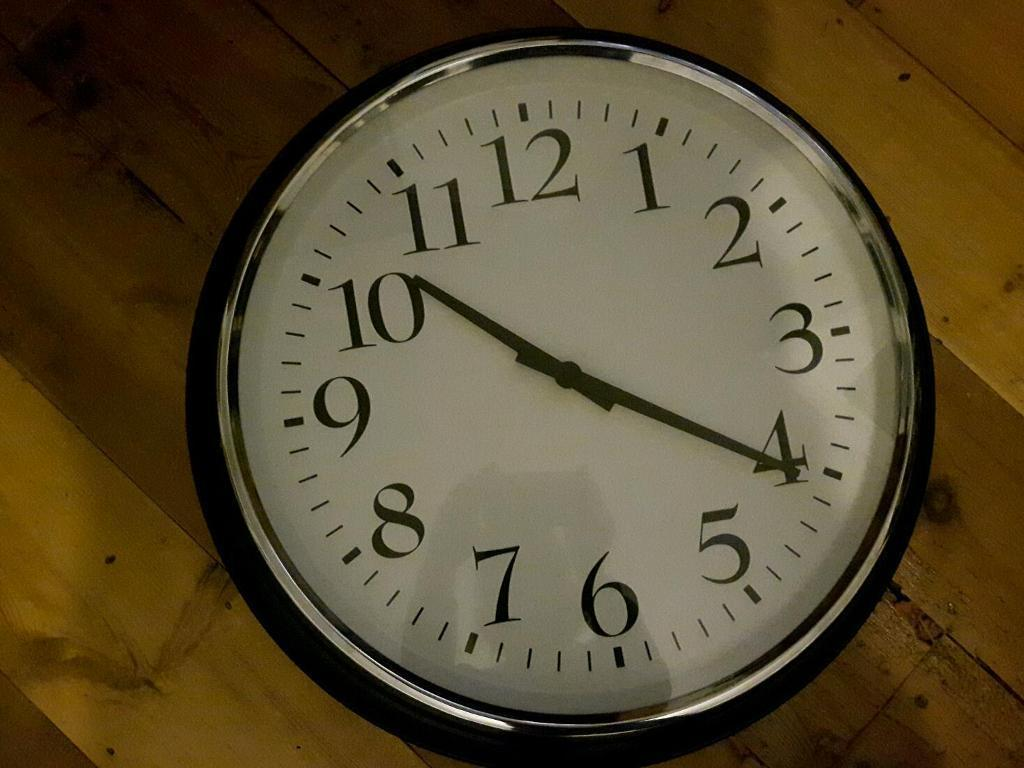clock: (192, 33, 937, 757)
